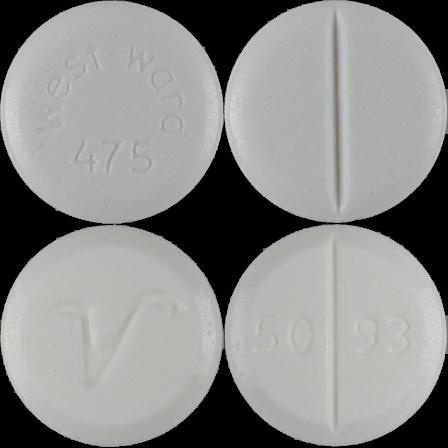50090-0096: (0, 0, 224, 224)
